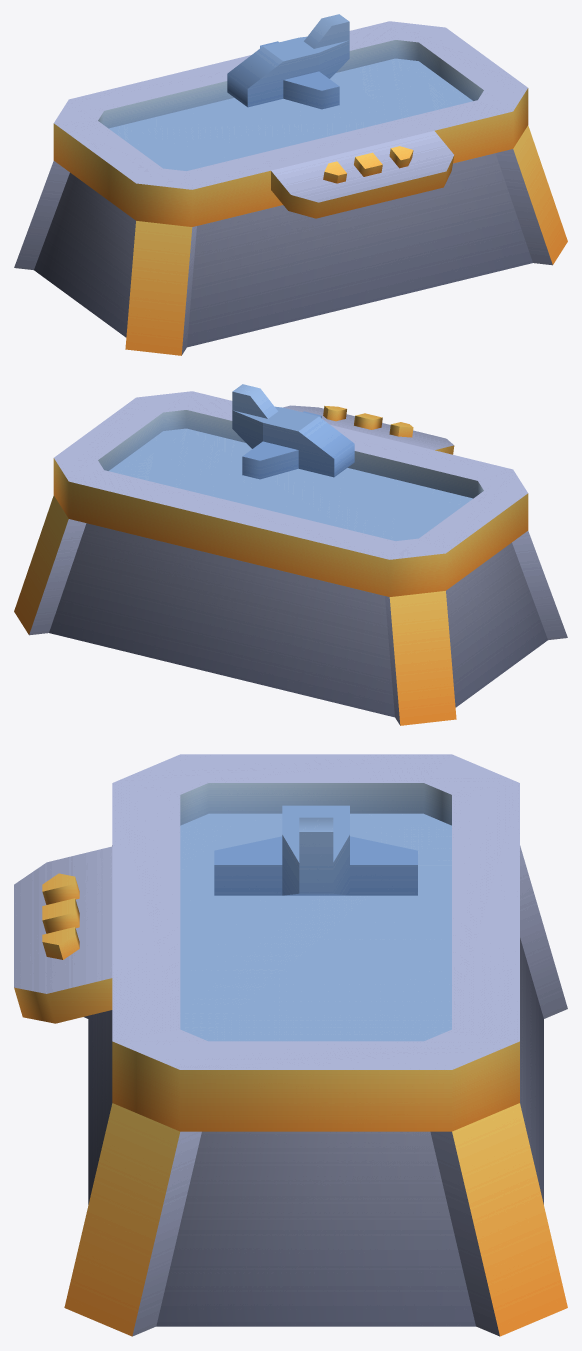
Rendered from table-display.glb.
3 views of the same model, one above another, from view 1: azimuth 30°, elevation 25°; view 2: azimuth 150°, elevation 25°; view 3: azimuth 270°, elevation 25° (orthographic). The views are drawn at different scales.
Parts seen in each view (by area): view 1: table-display, ship; view 2: table-display, ship; view 3: table-display, ship.
Part boxes in pixels (left/top/right/bottom): table-display: left=14, top=21, right=567, bottom=355; ship: left=227, top=14, right=349, bottom=109; table-display: left=14, top=391, right=567, bottom=725; ship: left=232, top=384, right=354, bottom=479; table-display: left=14, top=754, right=567, bottom=1336; ship: left=214, top=805, right=417, bottom=895.
Size of the model in its own units: 1.24 by 0.6 by 0.8156.
1 material, 1 textured.
